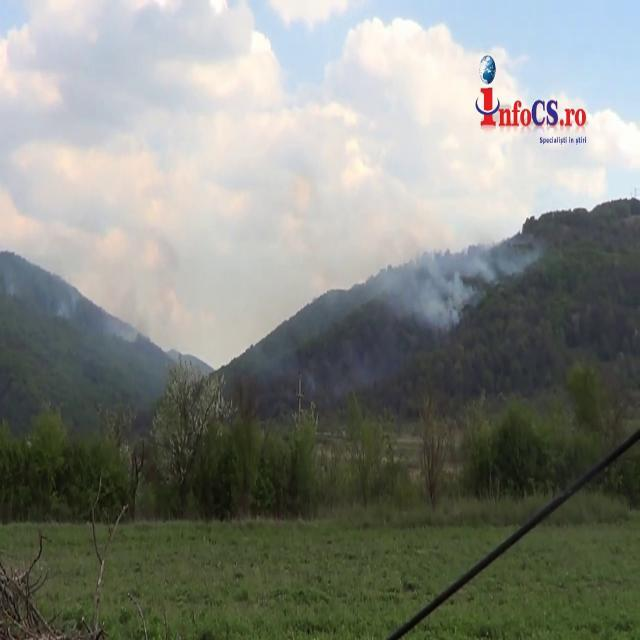Smoke: (399, 238, 476, 334)
